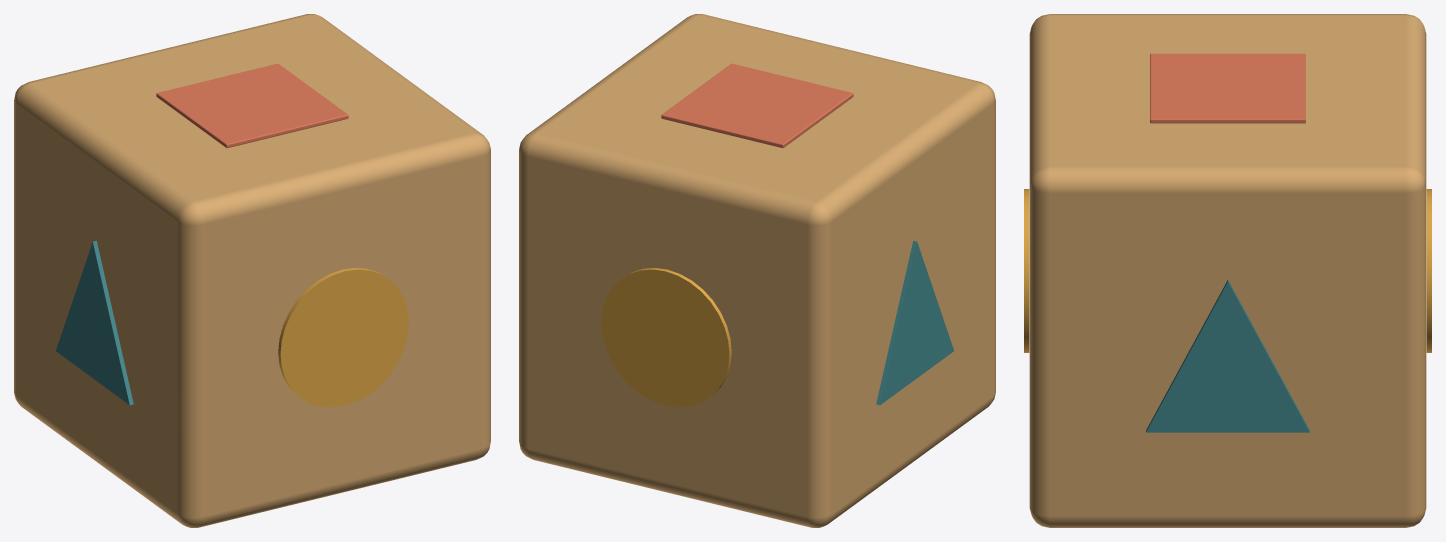
Rendered from play-cube-six-faces.glb.
The picture shows the model from 3 angles, left to right: view 1: azimuth 30°, elevation 25°; view 2: azimuth 150°, elevation 25°; view 3: azimuth 270°, elevation 25°; orthographic projection. The views are drawn at different scales.
Visible parts, largest first — view 1: Cube_Wood, Cube_Yellow_Circle_Front, Cube_Coral_Square_Top, Cube_Blue_Triangle_Left; view 2: Cube_Wood, Cube_Yellow_Circle_Back, Cube_Coral_Square_Top, Cube_Blue_Triangle_Left; view 3: Cube_Wood, Cube_Blue_Triangle_Right, Cube_Coral_Square_Top, Cube_Yellow_Circle_Back, Cube_Yellow_Circle_Front.
Part boxes in pixels (x1,y1,x2,y2): Cube_Wood: [14, 14, 490, 527]; Cube_Yellow_Circle_Front: [278, 268, 408, 407]; Cube_Coral_Square_Top: [156, 63, 348, 148]; Cube_Blue_Triangle_Left: [56, 241, 133, 405]; Cube_Wood: [519, 14, 995, 527]; Cube_Yellow_Circle_Back: [601, 268, 731, 407]; Cube_Coral_Square_Top: [661, 63, 853, 148]; Cube_Blue_Triangle_Left: [876, 241, 953, 405]; Cube_Wood: [1029, 14, 1426, 527]; Cube_Blue_Triangle_Right: [1146, 280, 1309, 432]; Cube_Coral_Square_Top: [1150, 53, 1305, 123]; Cube_Yellow_Circle_Back: [1426, 189, 1431, 352]; Cube_Yellow_Circle_Front: [1024, 189, 1029, 352].
Size of the model in its own units: 0.1592 by 0.1592 by 0.1592.
